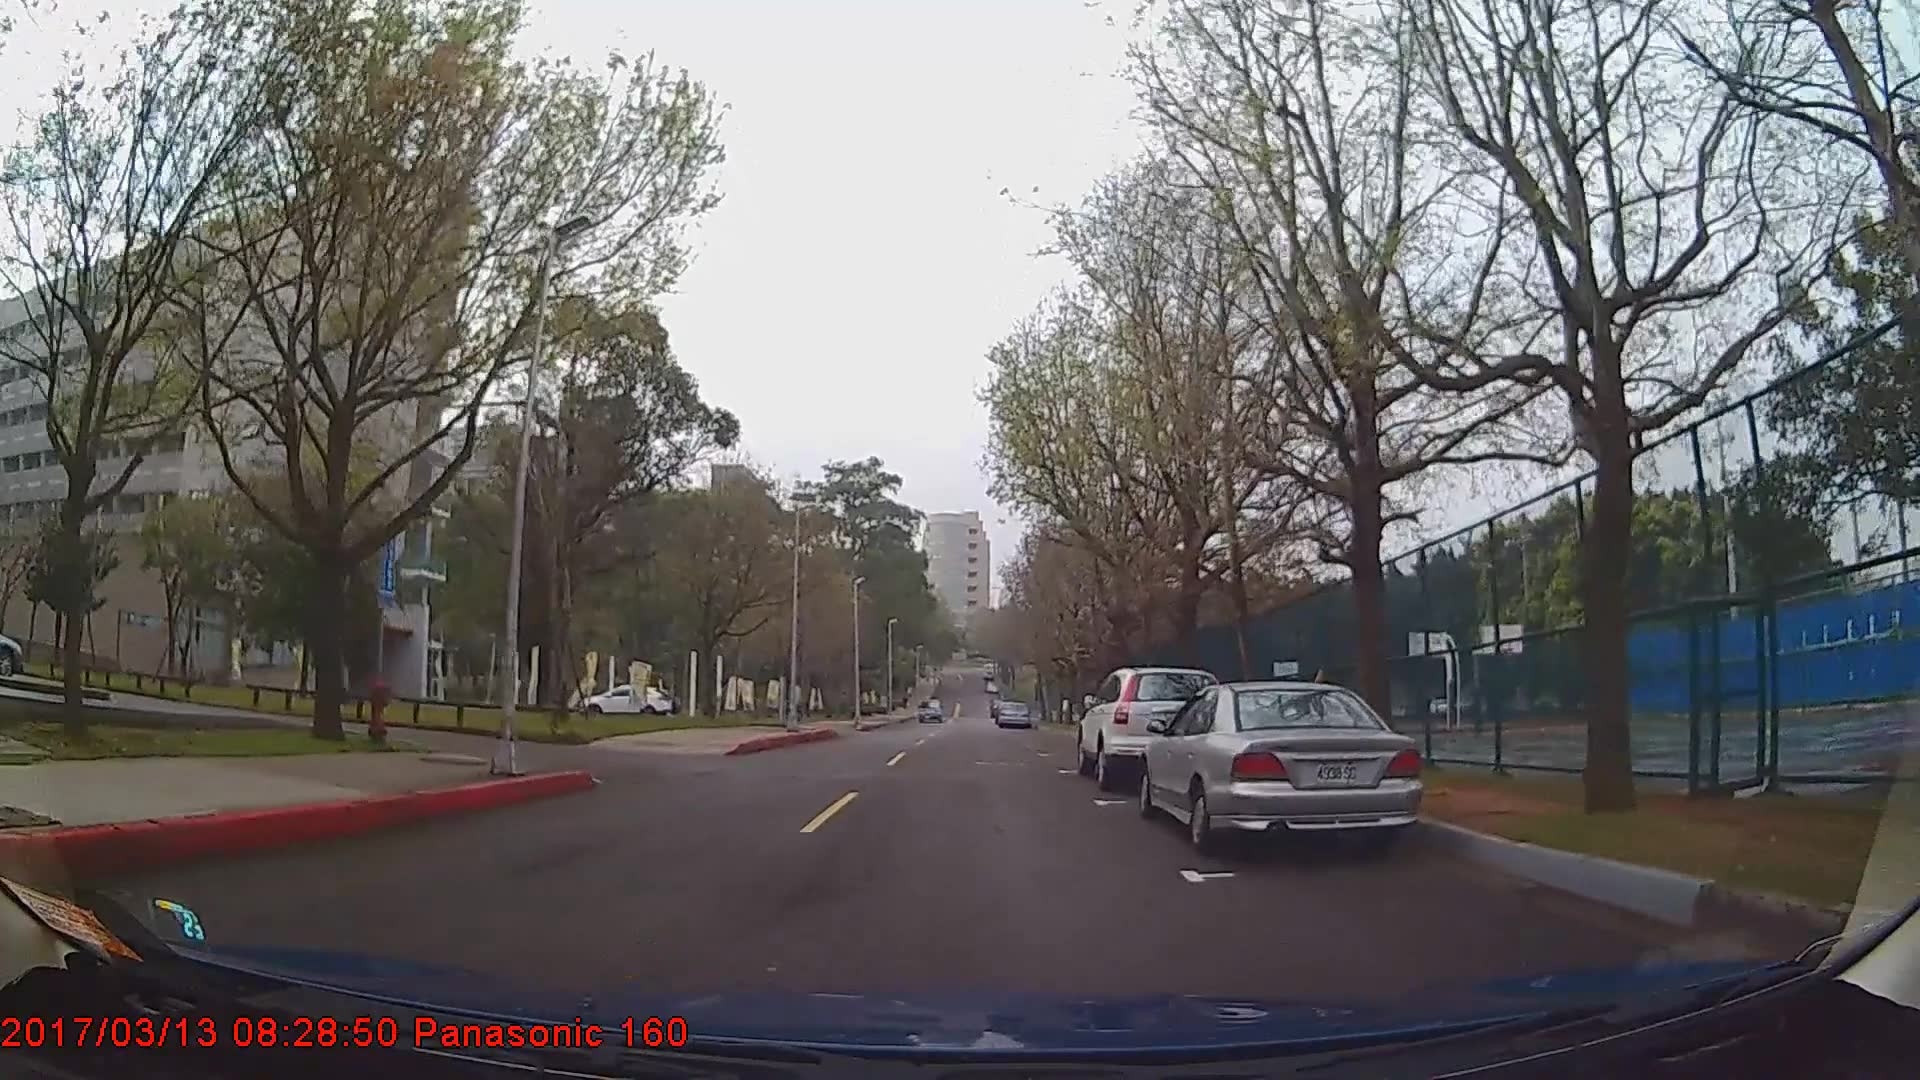vehicle: (1139, 679, 1420, 855), (1076, 666, 1225, 789), (578, 683, 674, 717), (993, 700, 1030, 728), (914, 698, 942, 724)
